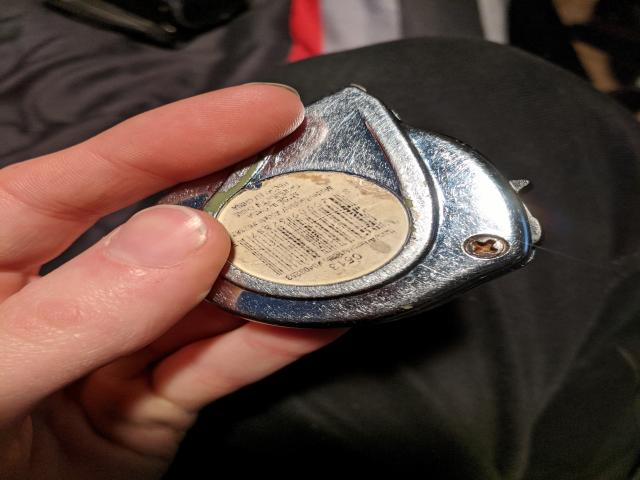CRS: (464, 233, 514, 259)
